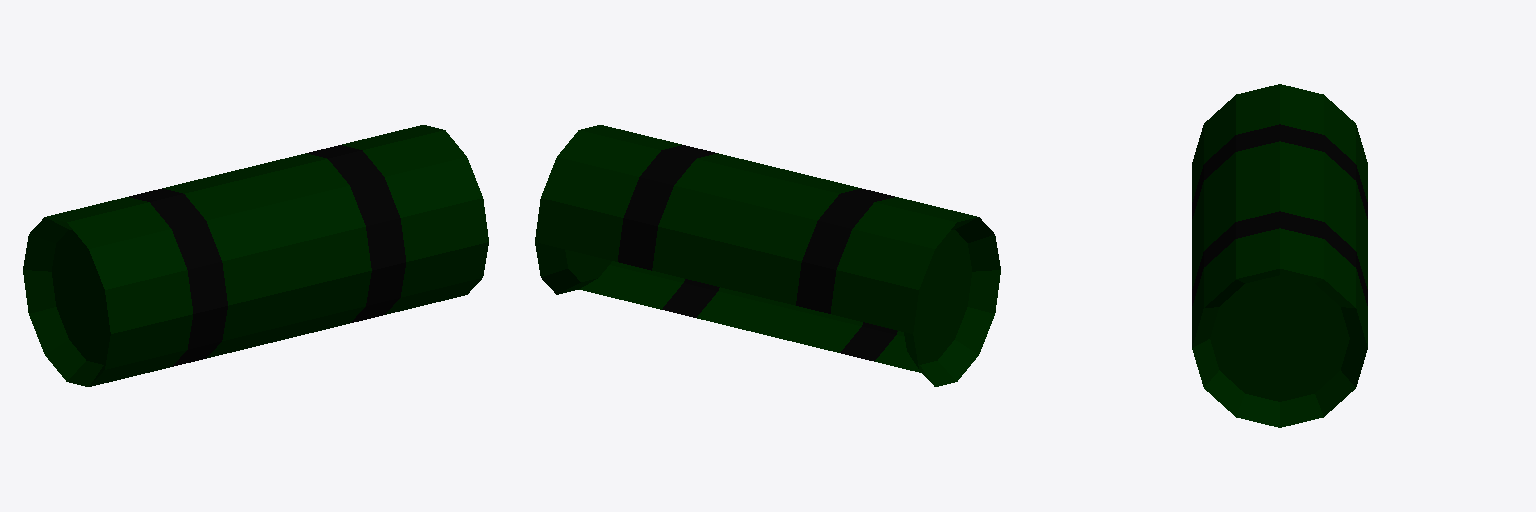
File: tent.obj
3 views of the same model, side by side, from view 1: azimuth 30°, elevation 25°; view 2: azimuth 150°, elevation 25°; view 3: azimuth 270°, elevation 25° (orthographic).
Visible parts, largest first — view 1: tent; view 2: tent; view 3: tent.
Boxes of the visible parts, x1=… form: tent: x1=23, y1=125, x2=488, y2=386; tent: x1=535, y1=125, x2=1000, y2=386; tent: x1=1192, y1=84, x2=1367, y2=427.
Size of the model in its own units: 0.2086 by 0.084 by 0.084.